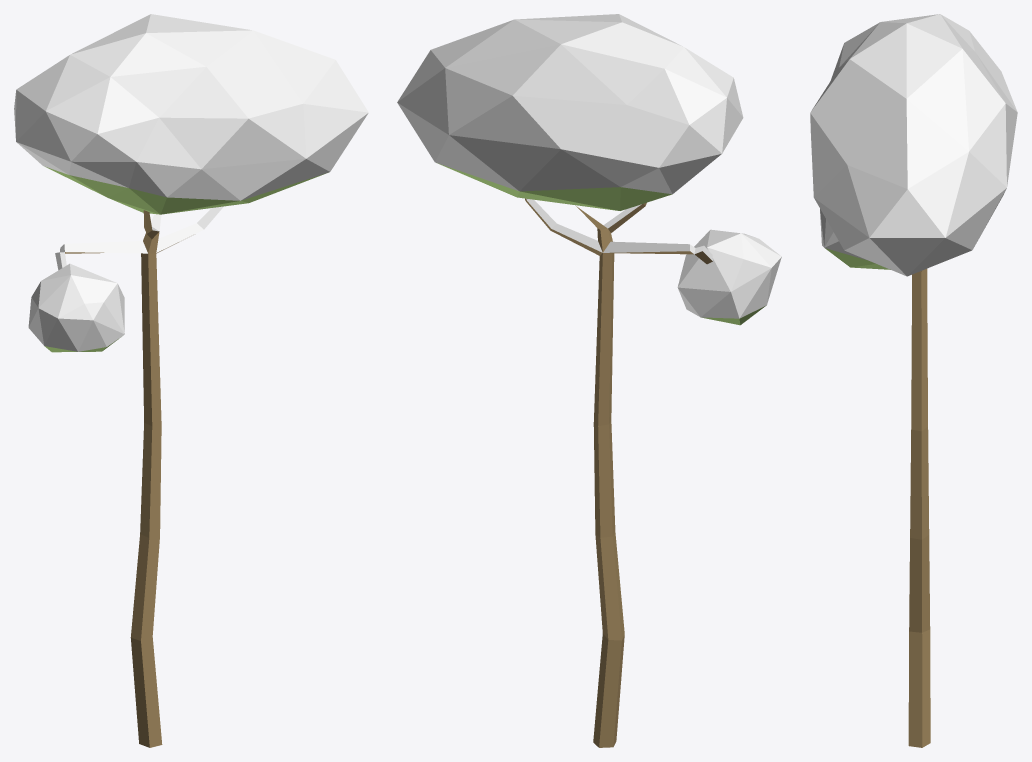
The model's file is Acacia_Tree_crk_m_Snow_BT_02.fbx.
The picture shows the model from 3 angles, left to right: view 1: azimuth 30°, elevation 25°; view 2: azimuth 150°, elevation 25°; view 3: azimuth 270°, elevation 25°; orthographic projection.
Visible parts, largest first — view 1: Acacia_Tree_crk_m_Snow_BT_02; view 2: Acacia_Tree_crk_m_Snow_BT_02; view 3: Acacia_Tree_crk_m_Snow_BT_02.
Boxes of the visible parts, x1=… form: Acacia_Tree_crk_m_Snow_BT_02: x1=14, y1=14, x2=368, y2=747; Acacia_Tree_crk_m_Snow_BT_02: x1=397, y1=14, x2=781, y2=747; Acacia_Tree_crk_m_Snow_BT_02: x1=810, y1=14, x2=1017, y2=747.
Size of the model in its own units: 498 by 1025 by 270.
